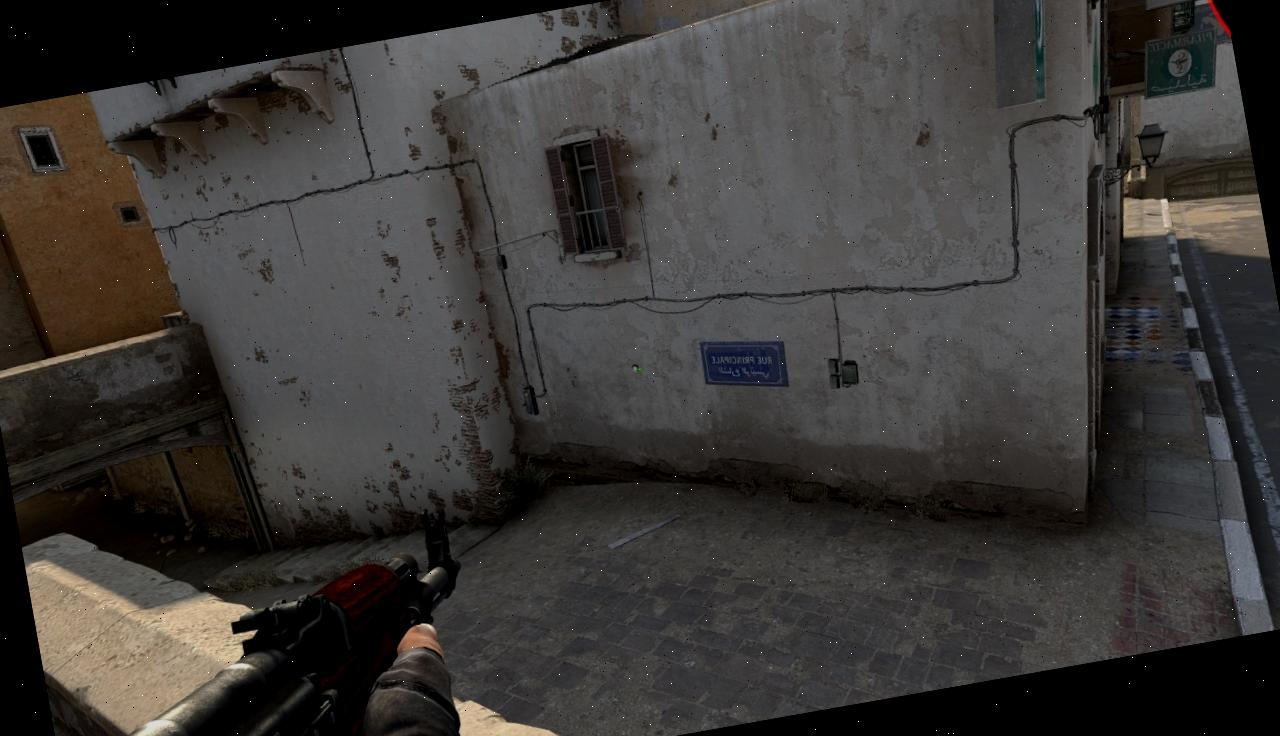rifle: (27, 503, 495, 736)
